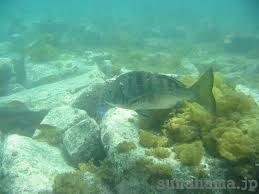kurodai: (102, 65, 222, 119)
